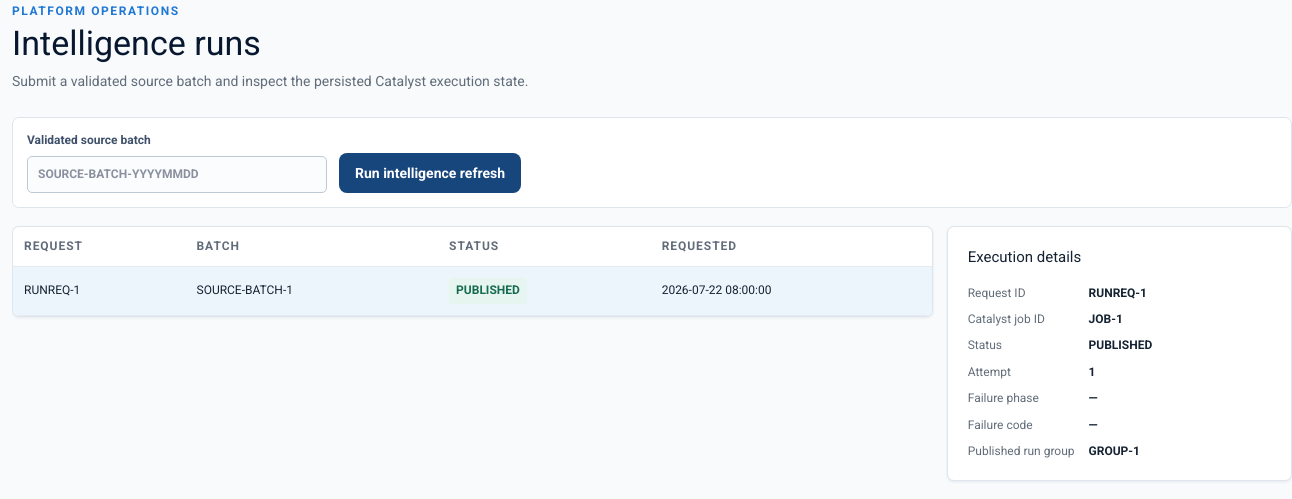
it: IntelligenceRunMonitor › loads persisted run state and submits through an idempotent API command
The width and height of the screenshot is (1292, 499).
Expected: the text "RUNREQ-1" is shown, [13, 267, 186, 315]
Type "SOURCE-BATCH-2" into the field labelled "Validated source batch" at [177, 174], box [27, 156, 327, 193]
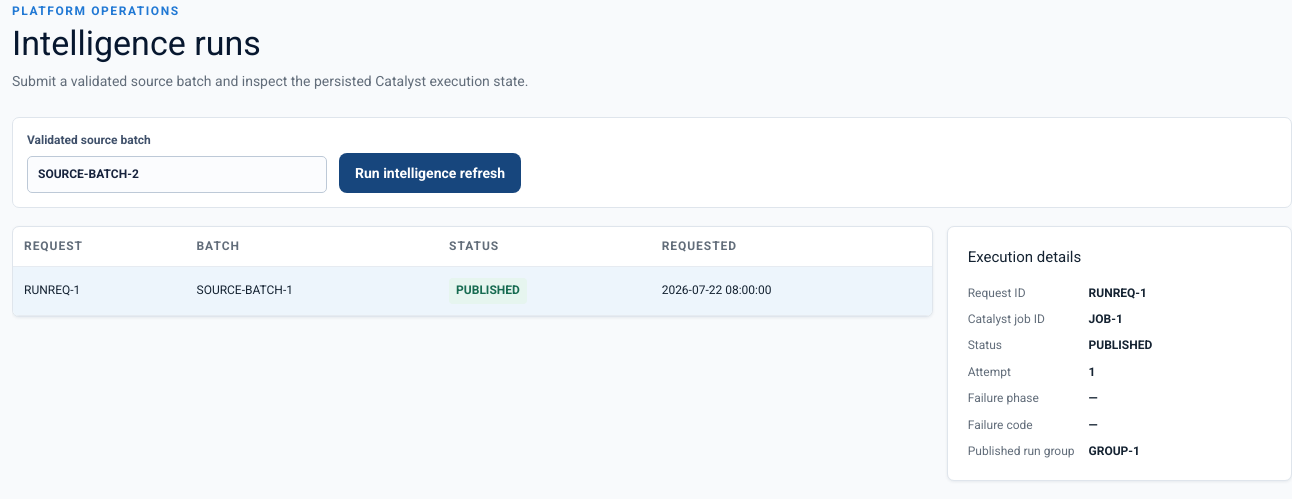
Click the button "Run intelligence refresh" at [430, 173], box [339, 153, 521, 193]
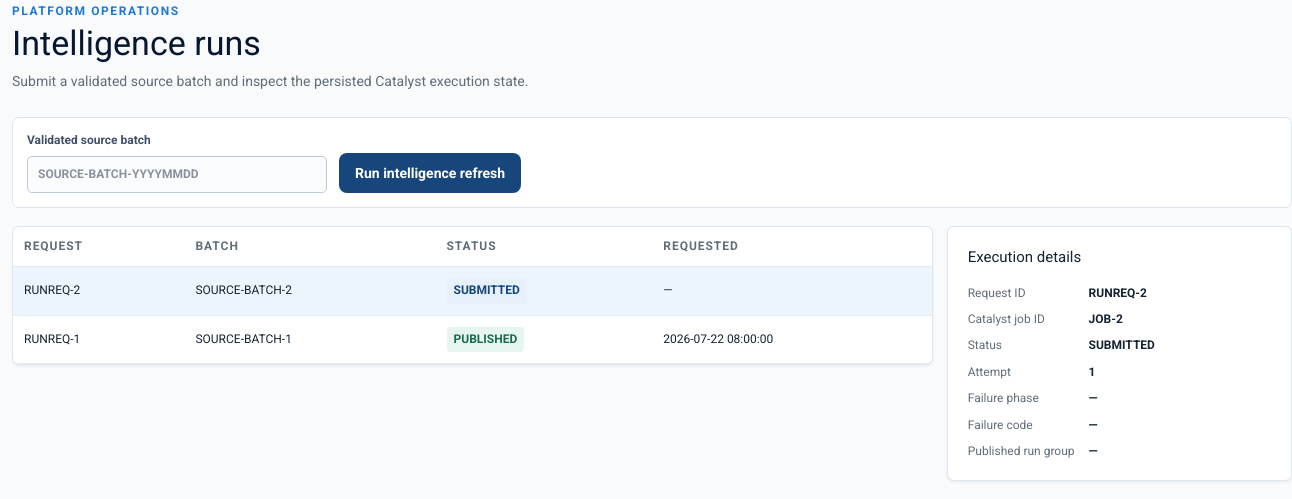
Now the text "RUNREQ-2" is shown, box [13, 267, 184, 315]
Now the text "SUBMITTED" next to "SOURCE-BATCH-2" is shown, box [454, 283, 520, 297]
